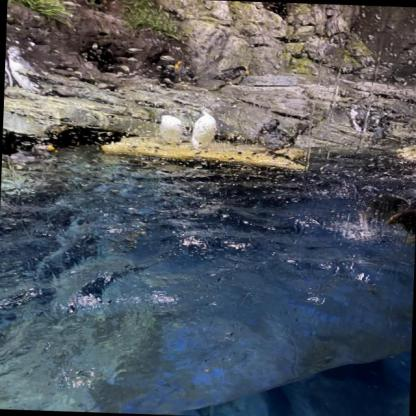puffin: (366, 188, 416, 245), (5, 44, 50, 94), (254, 118, 298, 160), (186, 104, 222, 155), (5, 139, 60, 170), (156, 108, 193, 150), (210, 62, 252, 88), (166, 56, 198, 88), (346, 100, 374, 134)
